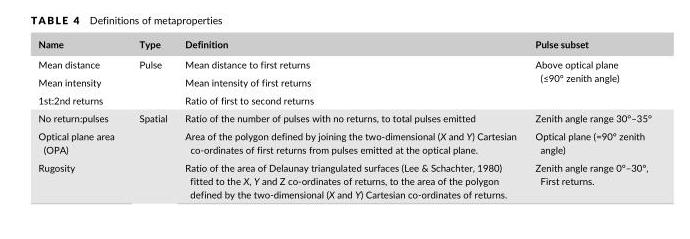table: (37, 37, 650, 199)
table column: (175, 37, 525, 199), (525, 37, 650, 199), (37, 37, 126, 199), (126, 37, 175, 199)
table column header: (37, 37, 650, 53)
table row: (37, 158, 650, 199), (37, 126, 650, 158), (37, 53, 650, 72), (37, 72, 650, 90), (37, 90, 650, 108), (37, 108, 650, 126), (37, 37, 650, 53)
table spanning cell: (525, 53, 650, 108), (126, 108, 175, 199), (126, 53, 175, 108)
